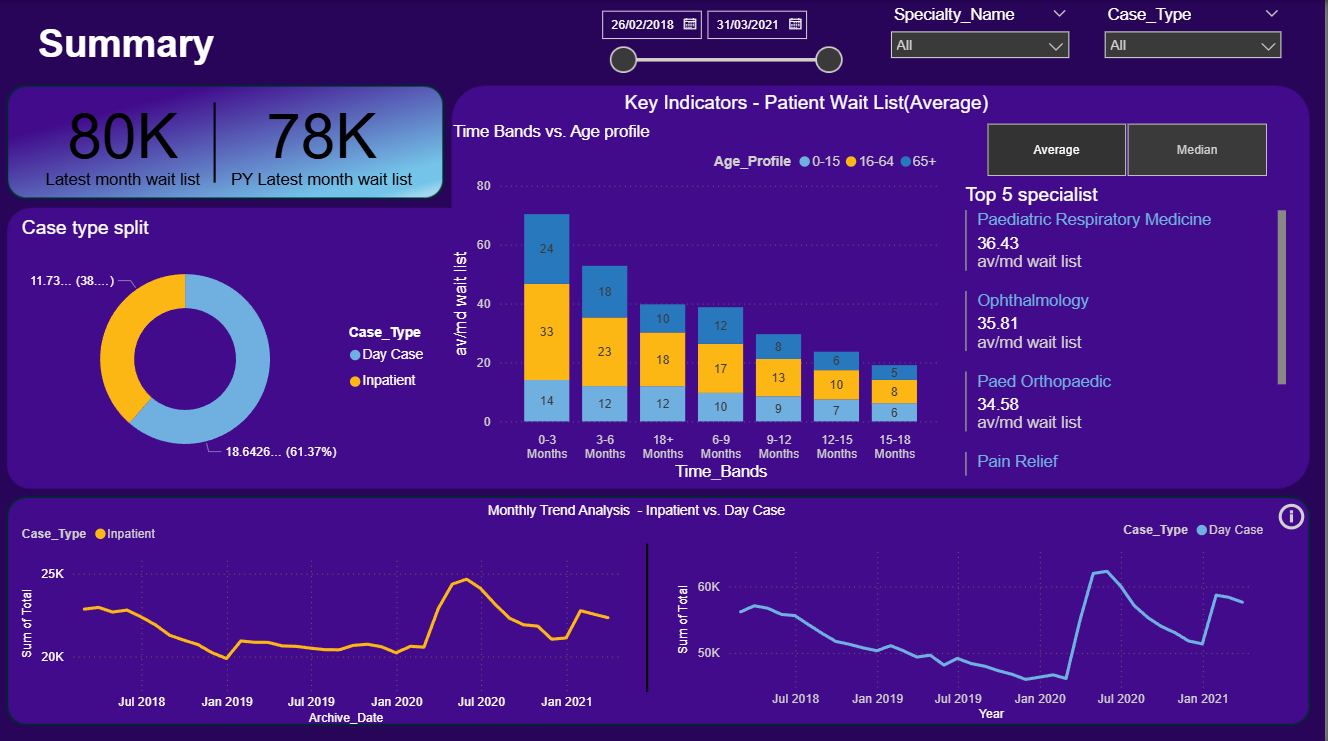

The dashboard page shown, as its layout file describes it:
{"tool":"powerbi","page":{"name":"Summary","canvas":[1280,720],"ordinal":0},"visuals":[{"type":"card","fields":{"Values":["AllData.Latest month wait list"]},"box":[16,80,208,112],"z":0},{"type":"card","fields":{"Values":["AllData.PY Latest month wait list"]},"box":[208,80,208,112],"z":1000},{"type":"slicer","fields":{"Values":["Table.calc_method"]},"box":[927.6,112.5,319.7,64.5],"z":2000},{"type":"donutChart","title":"Case type split","fields":{"Category":["AllData.Case_Type"],"Y":["AllData.av/md wait list"]},"box":[16.5,208.6,415.8,255.2],"z":3000},{"type":"columnChart","title":"Time Bands vs. Age profile","fields":{"Y":["AllData.av/md wait list"],"Category":["AllData.Time_Bands"],"Series":["AllData.Age_Profile"]},"box":[432.9,118.4,481.6,350],"z":4000},{"type":"multiRowCard","title":"Top 5 specialist","fields":{"Values":["AllData.av/md wait list","AllData.Specialty_Name"]},"box":[927.6,177,319.7,286.8],"z":5000},{"type":"card","fields":{"Values":["AllData.No Data Left"]},"box":[119.7,525,417.1,143.4],"z":5500},{"type":"lineChart","title":"Monthly Trend Analysis Inpatient vs. Day Casse","fields":{"Y":["Sum(AllData.Total)"],"Series":["AllData.Case_Type"],"Category":["AllData.Archive_Date"]},"box":[16.5,495.4,601,208.6],"z":6000},{"type":"card","fields":{"Values":["AllData.No Data right"]},"box":[669.7,509.2,417.1,143.4],"z":7000},{"type":"lineChart","fields":{"Y":["Sum(AllData.Total)"],"Category":["AllData.Archive_Date.Variation.Date Hierarchy.Year","AllData.Archive_Date.Variation.Date Hierarchy.Quarter","AllData.Archive_Date.Variation.Date Hierarchy.Month","AllData.Archive_Date.Variation.Date Hierarchy.Day"],"Series":["AllData.Case_Type"]},"box":[650,492.5,580,208.8],"z":8000},{"type":"slicer","fields":{"Values":["AllData.Archive_Date"]},"box":[569.5,0,252.5,74.1],"z":9000},{"type":"slicer","fields":{"Values":["AllData.Case_Type"]},"box":[1056.6,0,190.7,74.1],"z":10000},{"type":"slicer","fields":{"Values":["AllData.Specialty_Name"]},"box":[850.8,0,192.1,74.1],"z":11000},{"type":"textbox","box":[32,16,224,64],"z":12000},{"type":"shape","box":[137.5,98.9,141.2,77.2],"z":13000},{"type":"shape","box":[555,524.8,141.2,143.6],"z":14000},{"type":"textbox","box":[467.1,480.3,315.8,28.9],"z":15000},{"type":"card","fields":{"Values":["AllData.Dynamic Title"]},"box":[501.3,80.3,555.3,38.2],"z":16000},{"type":"actionButton","box":[1230,480,33.8,37.5],"z":16001}]}

Visuals, with their boxes in screenshot pixels (x1, y1, x2, y2), scaled from the page's 1280x720 canvas onto the 1328x741 screenshot:
card - AllData.Latest month wait list: 17 82 232 198
card - AllData.PY Latest month wait list: 216 82 432 198
slicer - Table.calc_method: 962 116 1294 182
"Case type split" donutChart: 17 215 449 477
"Time Bands vs. Age profile" columnChart: 449 122 949 482
"Top 5 specialist" multiRowCard: 962 182 1294 477
card - AllData.No Data Left: 124 540 557 688
"Monthly Trend Analysis Inpatient vs. Day Casse" lineChart: 17 510 641 725
card - AllData.No Data right: 695 524 1128 672
lineChart - Sum(AllData.Total) x AllData.Archive_Date.Variation.Date Hierarchy.Year: 674 507 1276 722
slicer - AllData.Archive_Date: 591 0 853 76
slicer - AllData.Case_Type: 1096 0 1294 76
slicer - AllData.Specialty_Name: 883 0 1082 76
textbox: 33 16 266 82
shape: 143 102 289 181
shape: 576 540 722 688
textbox: 485 494 812 524
card - AllData.Dynamic Title: 520 83 1096 122
actionButton: 1276 494 1311 533
